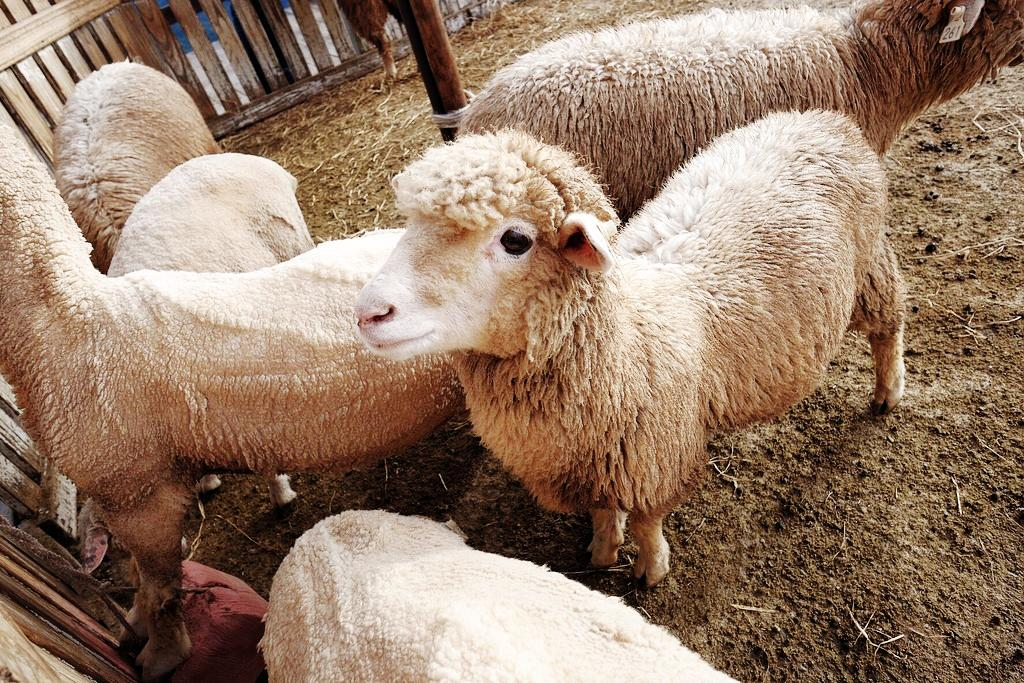Sheep: (358, 125, 933, 604), (0, 121, 465, 682), (432, 0, 1024, 229), (250, 510, 741, 682), (105, 152, 317, 518), (52, 56, 222, 273)
